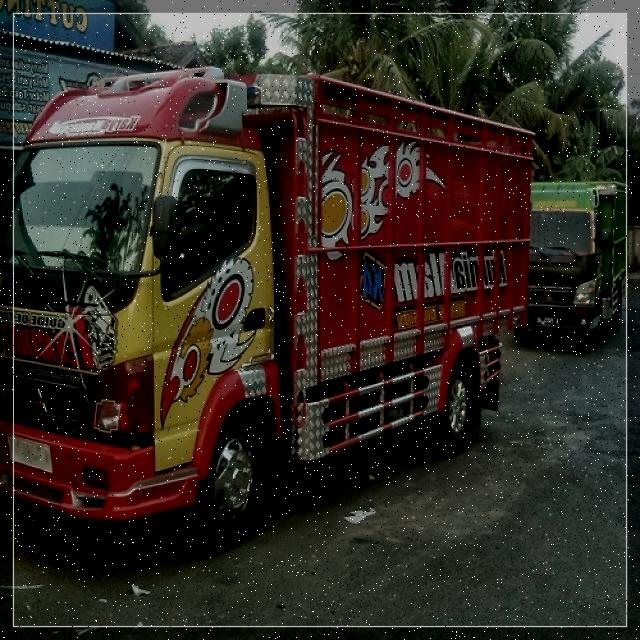truck: (0, 60, 529, 536), (508, 177, 626, 353)
